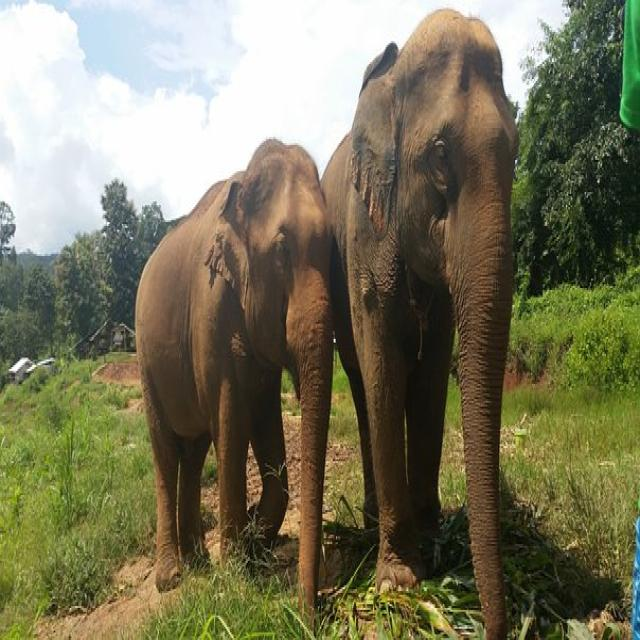Elephant: (311, 4, 548, 640), (117, 120, 335, 629)
